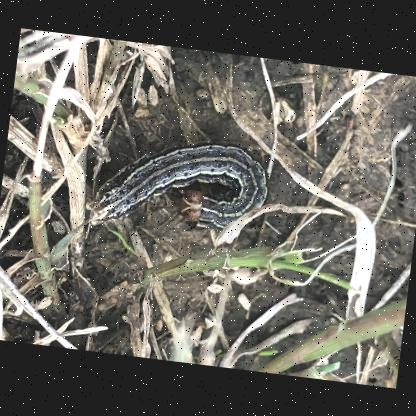Fall Armyworm Larvae: (79, 122, 278, 250)
